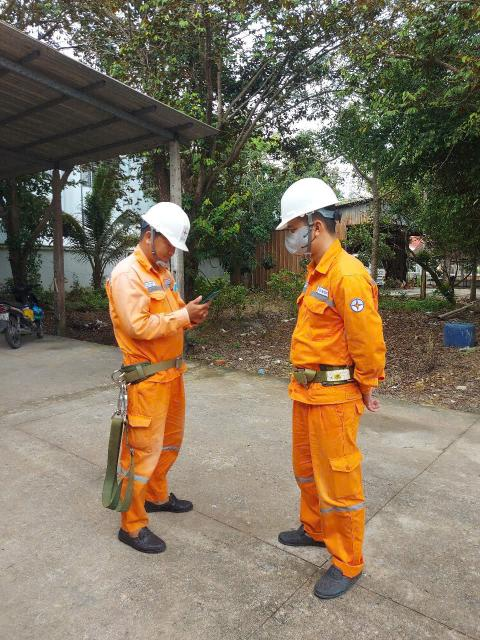harness: (282, 356, 366, 394), (111, 352, 207, 381)
helmet: (260, 174, 355, 228), (131, 201, 199, 258)
shoes: (296, 558, 380, 600), (262, 510, 343, 551), (98, 518, 177, 560), (140, 487, 215, 517)
